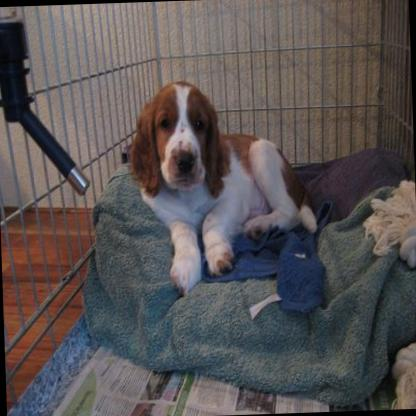Welsh_springer_spaniel: (125, 76, 320, 296)
